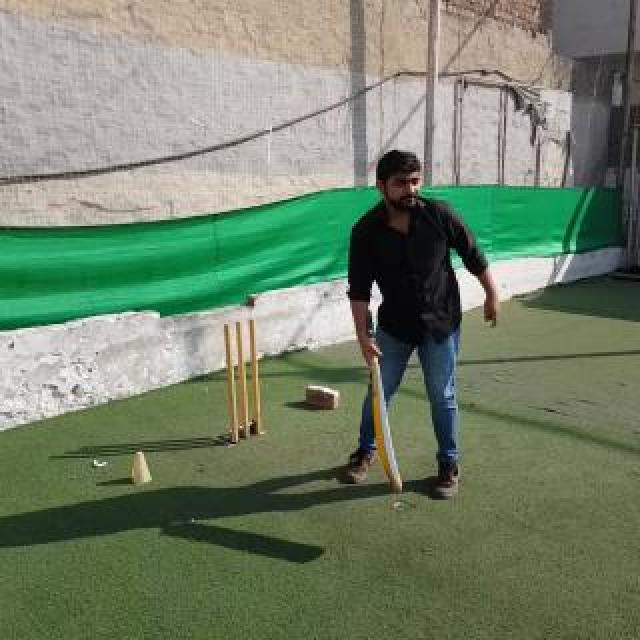bat: (366, 308, 404, 492)
